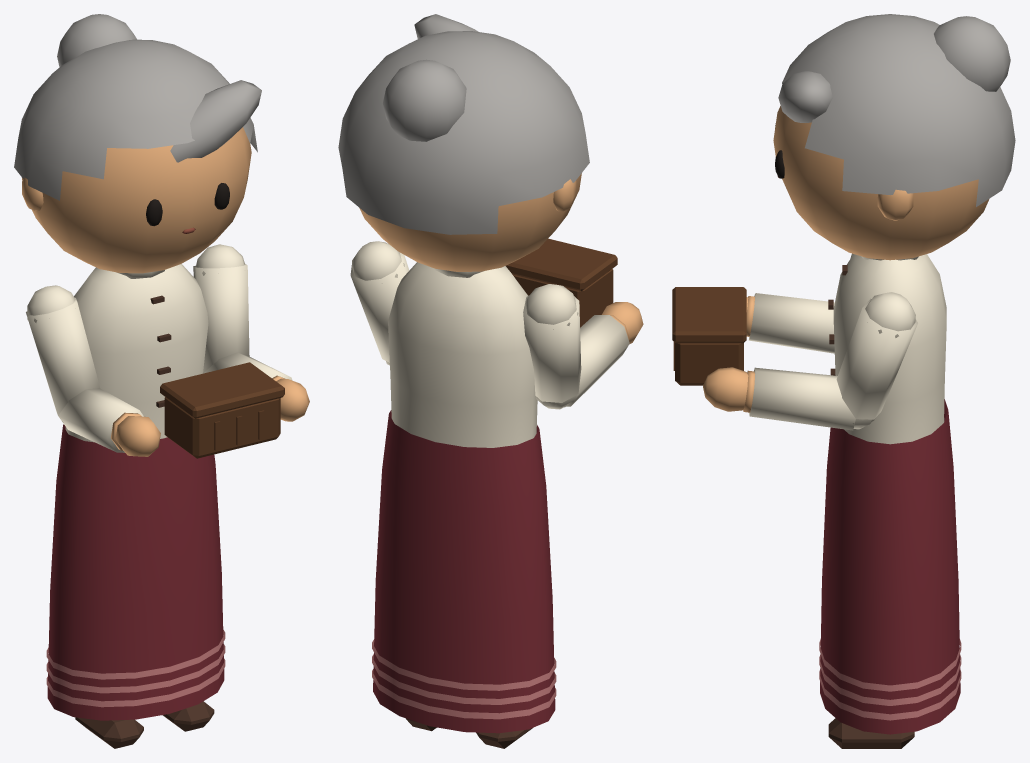
File: isan_grandma_box.glb
3 renders of one model, left to right at view 1: azimuth 30°, elevation 25°; view 2: azimuth 150°, elevation 25°; view 3: azimuth 270°, elevation 25°, orthographic. The views are drawn at different scales.
Parts seen in each view (by area): view 1: body, head, prop_wooden_box, arm_R, arm_L, forearm_R, forearm_L, shin_R, shin_L; view 2: body, head, arm_R, prop_wooden_box, arm_L, forearm_R, shin_R; view 3: body, head, forearm_L, arm_L, prop_wooden_box, forearm_R, shin_L.
Part boxes in pixels (box(x1,y1,x2,y2)): body: box(46, 264, 225, 720); head: box(14, 14, 261, 273); prop_wooden_box: box(160, 362, 284, 458); arm_R: box(26, 285, 99, 422); arm_L: box(193, 244, 249, 372); forearm_R: box(58, 388, 160, 456); forearm_L: box(203, 352, 309, 421); shin_R: box(75, 717, 143, 748); shin_L: box(162, 701, 214, 731); body: box(372, 262, 556, 733); head: box(338, 14, 589, 271); arm_R: box(523, 284, 581, 409); prop_wooden_box: box(506, 238, 617, 327); arm_L: box(350, 241, 409, 365); forearm_R: box(536, 302, 643, 407); shin_R: box(476, 728, 532, 748); body: box(819, 254, 961, 734); head: box(773, 14, 1015, 260); forearm_L: box(703, 367, 874, 430); arm_L: box(836, 292, 917, 429); prop_wooden_box: box(672, 287, 746, 385); forearm_R: box(746, 293, 834, 353); shin_L: box(828, 718, 914, 748).
Size of the model in its own units: 0.4938 by 1.47 by 0.6472.
